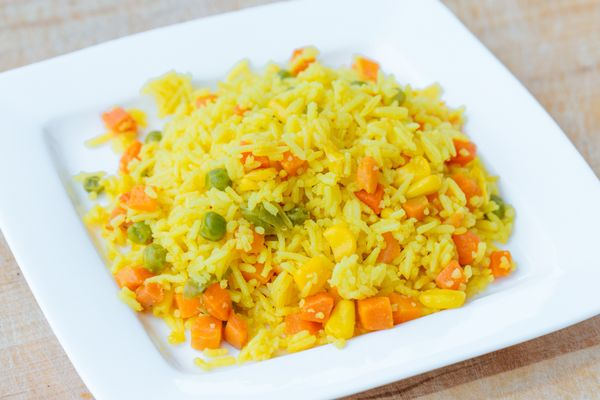sushi: (15, 33, 589, 378)
